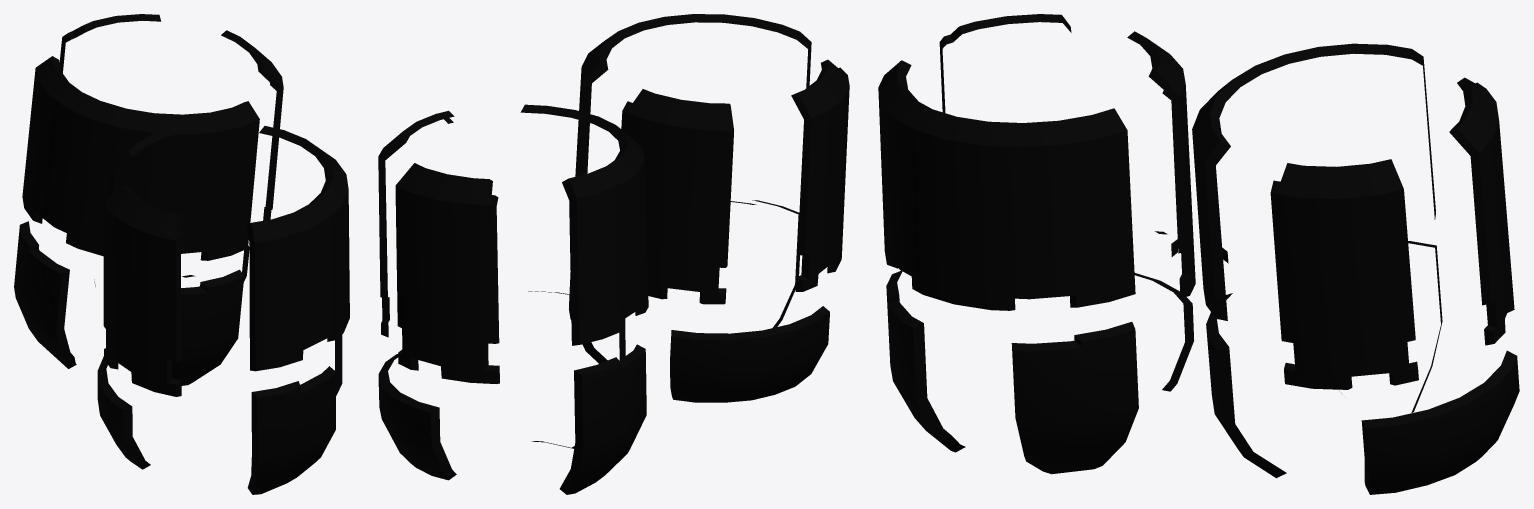
The model's file is prop_static_tr1_container_01_07.glb.
3 views of the same model, side by side, from view 1: azimuth 30°, elevation 25°; view 2: azimuth 150°, elevation 25°; view 3: azimuth 270°, elevation 25° (orthographic). The views are drawn at different scales.
Visible parts, largest first — view 1: tr1_container_01_07_mat01a_LOD0; view 2: tr1_container_01_07_mat01a_LOD0; view 3: tr1_container_01_07_mat01a_LOD0.
Boxes of the visible parts, x1,y1,x2,y2 form: tr1_container_01_07_mat01a_LOD0: [14, 14, 349, 494]; tr1_container_01_07_mat01a_LOD0: [378, 14, 849, 494]; tr1_container_01_07_mat01a_LOD0: [878, 14, 1519, 494].
Size of what is drawn, in the model's own units: 3.52 by 3.72 by 5.68.
1 material, 1 textured.
